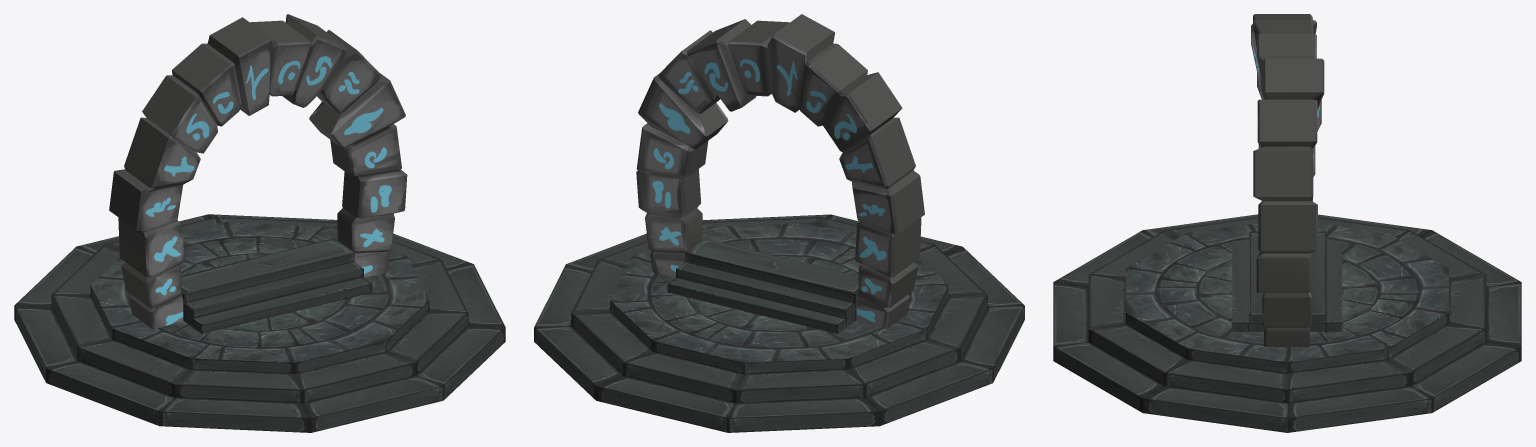
File: PortalOn.obj
3 renders of one model, left to right at view 1: azimuth 30°, elevation 25°; view 2: azimuth 150°, elevation 25°; view 3: azimuth 270°, elevation 25°, orthographic.
Bounding box in the file's own units: 50.71 × 34.75 × 48.23.
